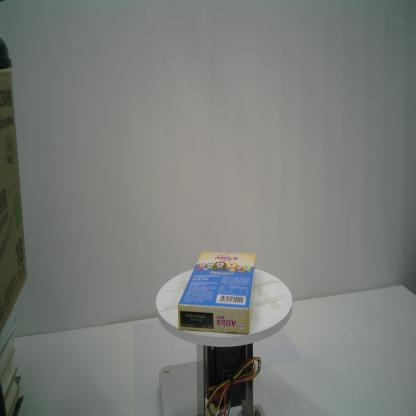Dessert: (176, 249, 258, 336)
